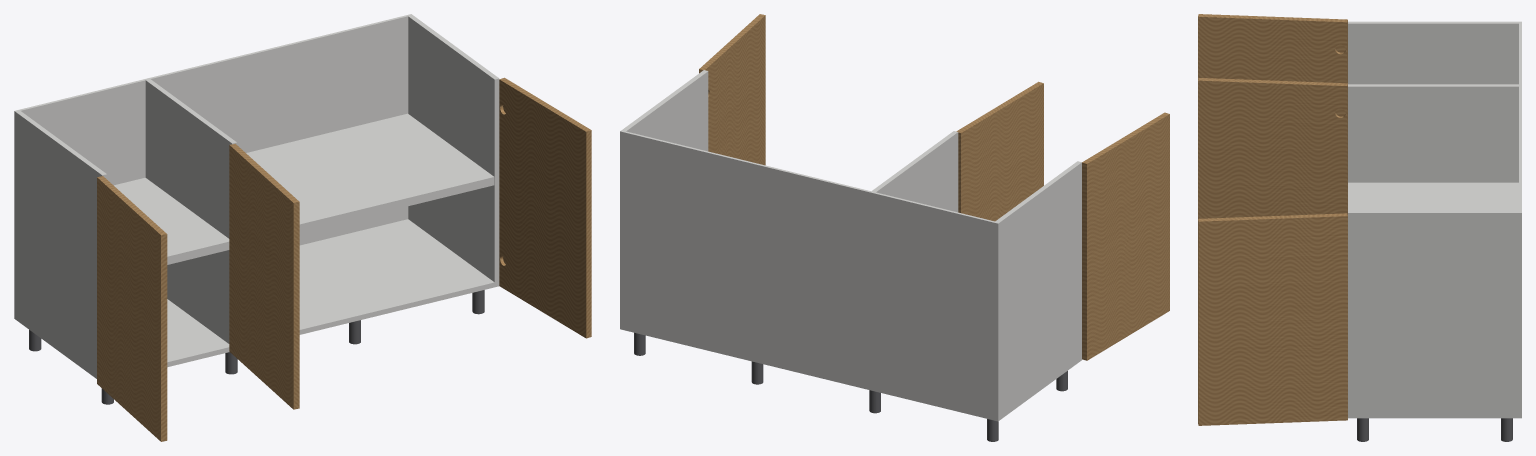
Rendered from w1500_none_pair_open.glb.
3 renders of one model, left to right at view 1: azimuth 30°, elevation 25°; view 2: azimuth 150°, elevation 25°; view 3: azimuth 270°, elevation 25°, orthographic. The views are drawn at different scales.
Visible parts, largest first — view 1: white, oak, leg; view 2: white, oak, leg; view 3: white, oak, leg.
Boxes of the visible parts, <box> form: white: <box>14,14,499,378</box>; oak: <box>97,77,591,441</box>; leg: <box>29,290,484,404</box>; white: <box>620,70,1081,421</box>; oak: <box>699,14,1169,360</box>; leg: <box>634,332,1067,441</box>; white: <box>1348,21,1521,418</box>; oak: <box>1198,14,1347,425</box>; leg: <box>1357,418,1512,441</box>.
Bounding box in the file's own units: 1.63 × 0.85 × 1.07.
3 materials, 1 textured.
